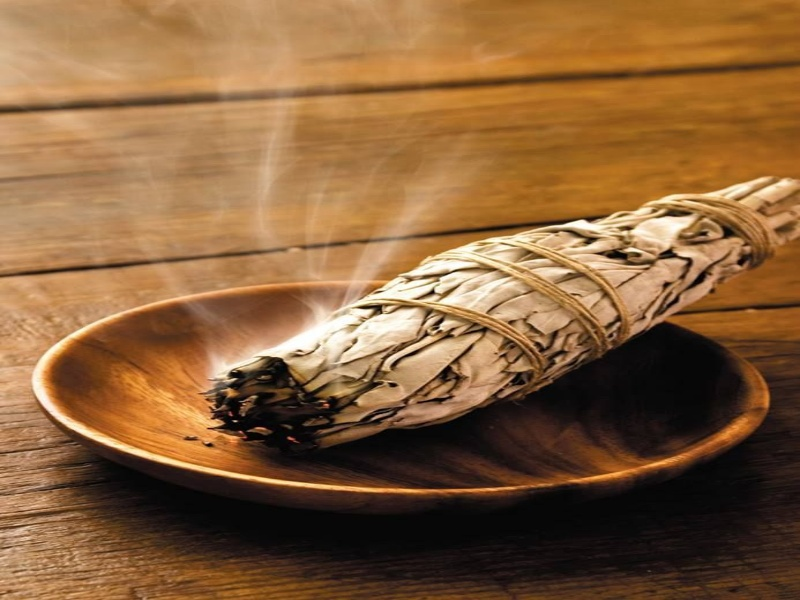smoke: (266, 146, 345, 346)
